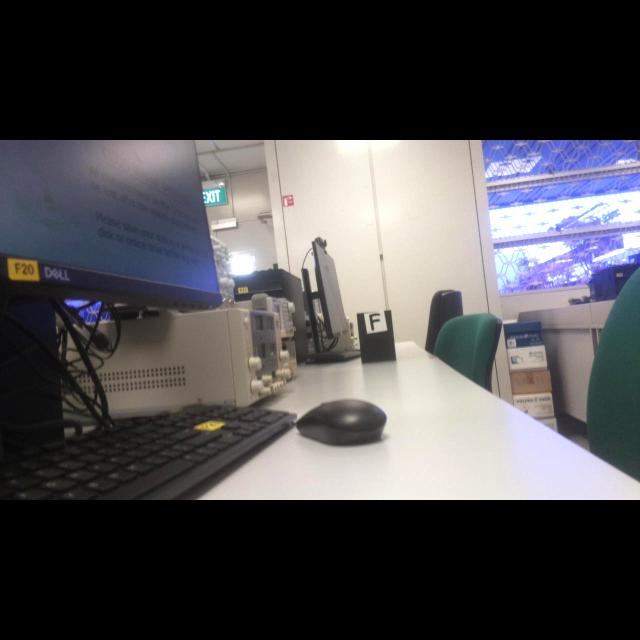F: (369, 313, 380, 331)
